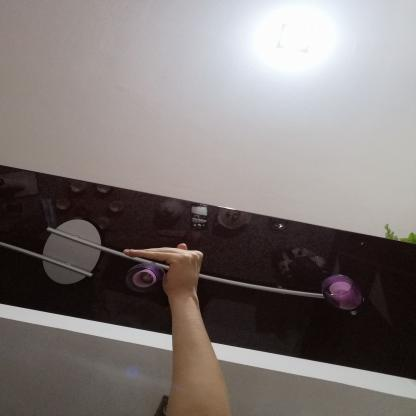KHAA: (108, 234, 216, 310)
